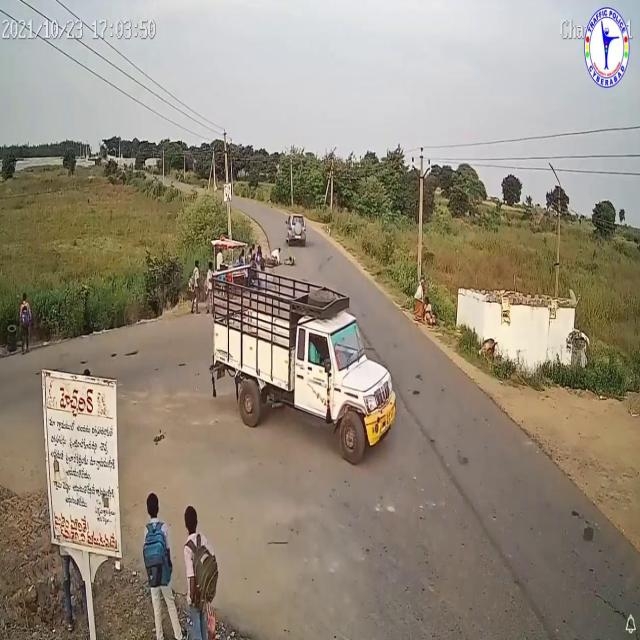accident: (263, 209, 307, 271)
